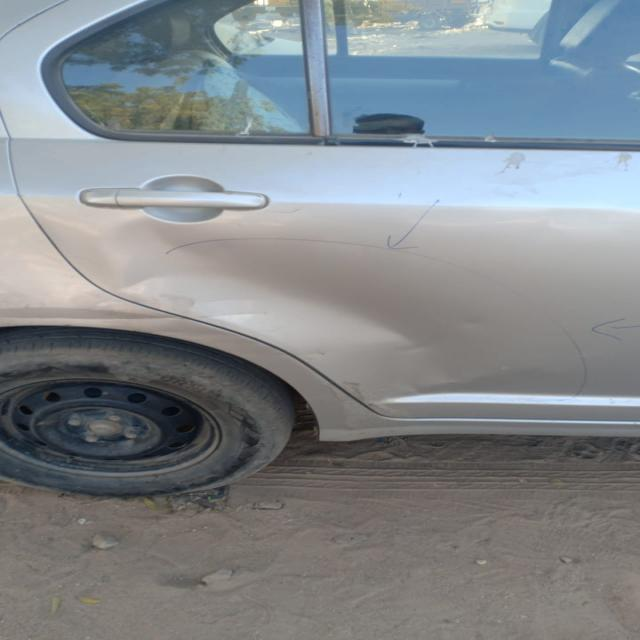damage: (54, 232, 485, 413), (3, 279, 183, 342), (472, 150, 640, 176), (385, 137, 510, 149)
